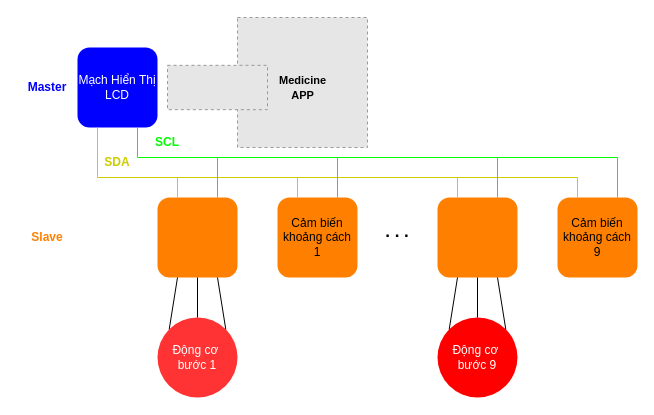
Image size: 654x415. Some labels were removed from this diagram. Grey dashed boxes stand in for pictures. Here are the shapes that lost their labels. From the top down, the centre of each, then its label:
At (197,237): "Mạch điều khiển động cơ 1".
At (477,237): "Mạch điều khiển động cơ 9".
